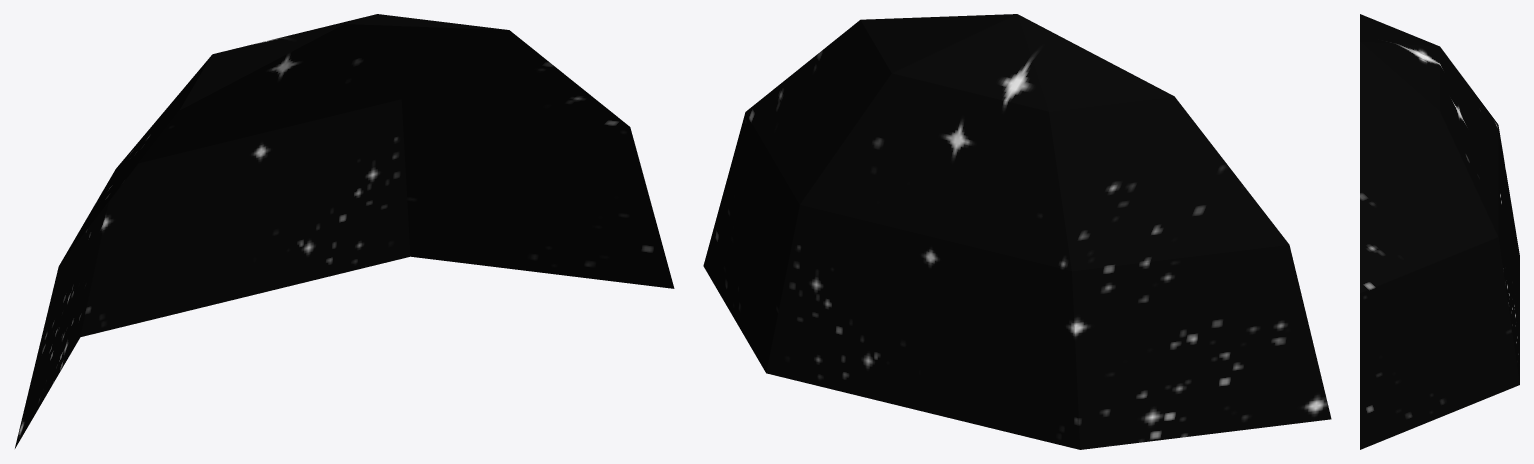
File: bg_stars.dae
The picture shows the model from 3 angles, left to right: view 1: azimuth 30°, elevation 25°; view 2: azimuth 150°, elevation 25°; view 3: azimuth 270°, elevation 25°; orthographic projection. The views are drawn at different scales.
Parts seen in each view (by area): view 1: bg_stars; view 2: bg_stars; view 3: bg_stars.
Boxes of the visible parts, x1,y1,x2,y2 form: bg_stars: (15,14,674,448); bg_stars: (703,14,1331,449); bg_stars: (1360,14,1519,449).
Bounding box in the file's own units: 1571 × 785 × 408.
Materials: 1 (1 with a texture image).
